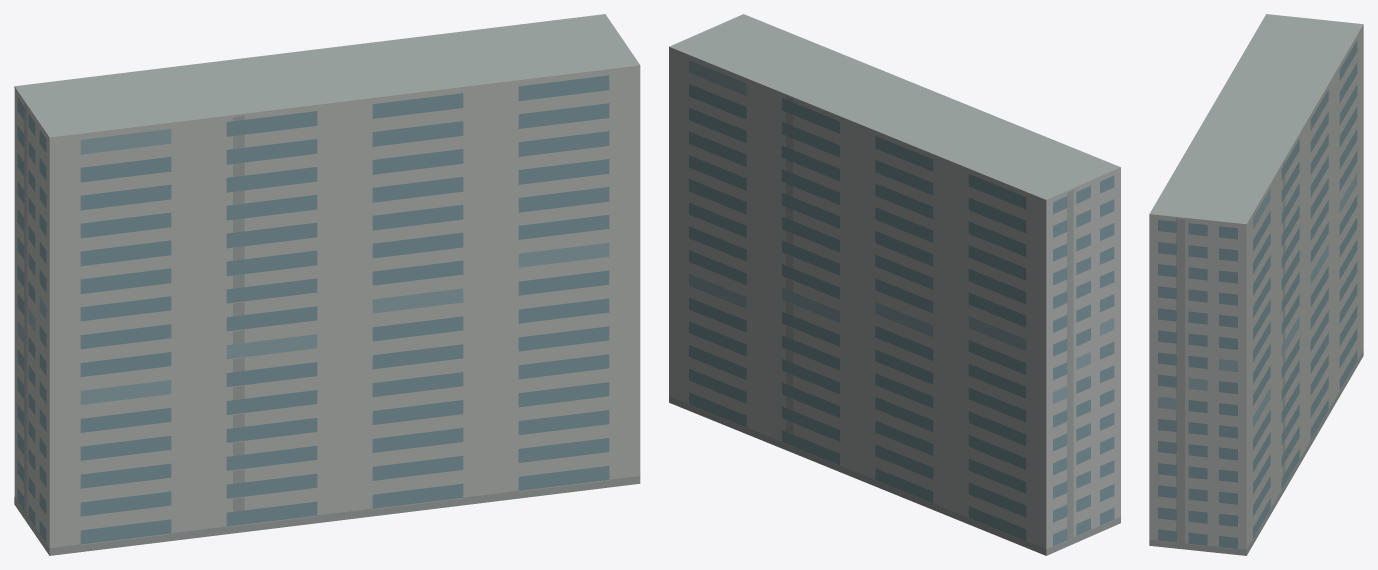
The model's file is residential-8ddbd8a3-f3f6-43aa-8d8b-3182719e61bc.glb.
3 views of the same model, side by side, from view 1: azimuth 30°, elevation 25°; view 2: azimuth 150°, elevation 25°; view 3: azimuth 270°, elevation 25° (orthographic). The views are drawn at different scales.
Parts seen in each view (by area): view 1: residential-8ddbd8a3-f3f6-43aa-8d8b-3182719e61bc.tmp; view 2: residential-8ddbd8a3-f3f6-43aa-8d8b-3182719e61bc.tmp; view 3: residential-8ddbd8a3-f3f6-43aa-8d8b-3182719e61bc.tmp.
Boxes of the visible parts, box(x1,y1,x2,y2) form: residential-8ddbd8a3-f3f6-43aa-8d8b-3182719e61bc.tmp: box(14, 14, 640, 555); residential-8ddbd8a3-f3f6-43aa-8d8b-3182719e61bc.tmp: box(669, 14, 1120, 555); residential-8ddbd8a3-f3f6-43aa-8d8b-3182719e61bc.tmp: box(1149, 14, 1363, 555).
Size of the model in its own units: 62.2 by 45.75 by 26.78.
